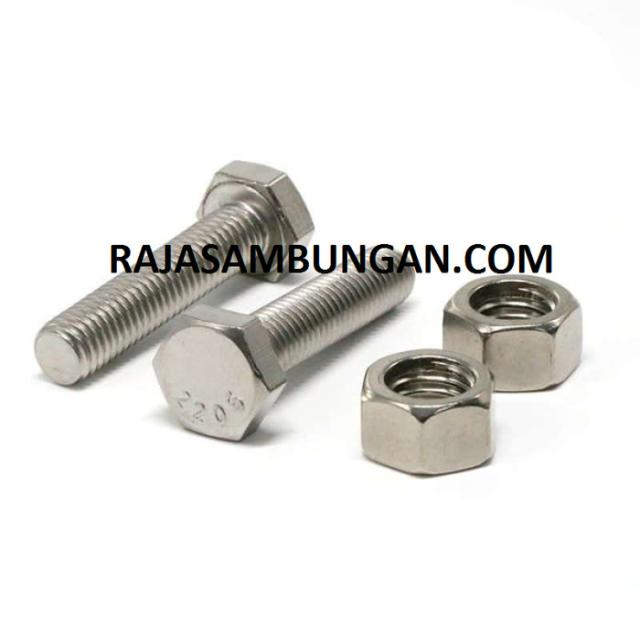Logam: (34, 144, 308, 412), (127, 227, 412, 454), (346, 348, 514, 504), (440, 265, 597, 400)
